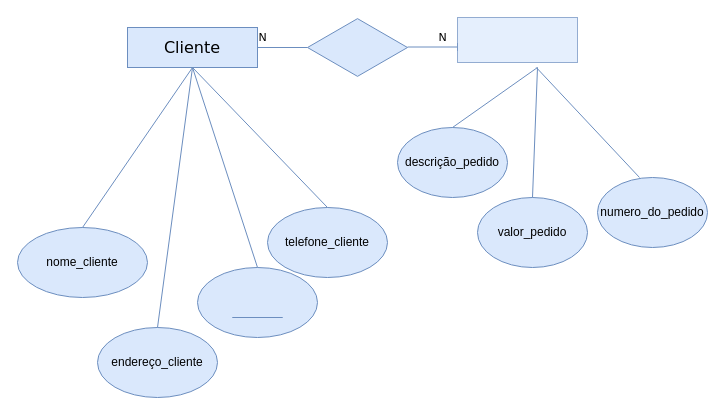
Image size: 725x415. Some labels were removed from this diagram. Here are the shapes that lost their labels. From the top down, the centre of each, then its label:
At (x=357, y=47): "Possui".
At (x=517, y=39): "Pedido".
At (x=257, y=302): "Id_cliente".
